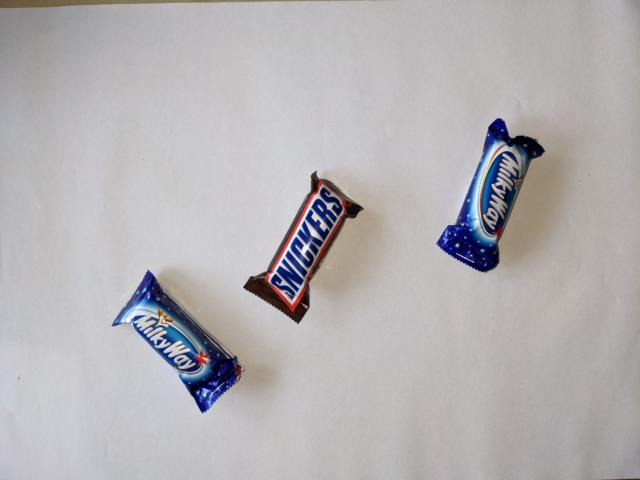MilkyWay: (109, 267, 248, 416), (433, 116, 547, 276)
Snickers: (240, 168, 368, 327)
